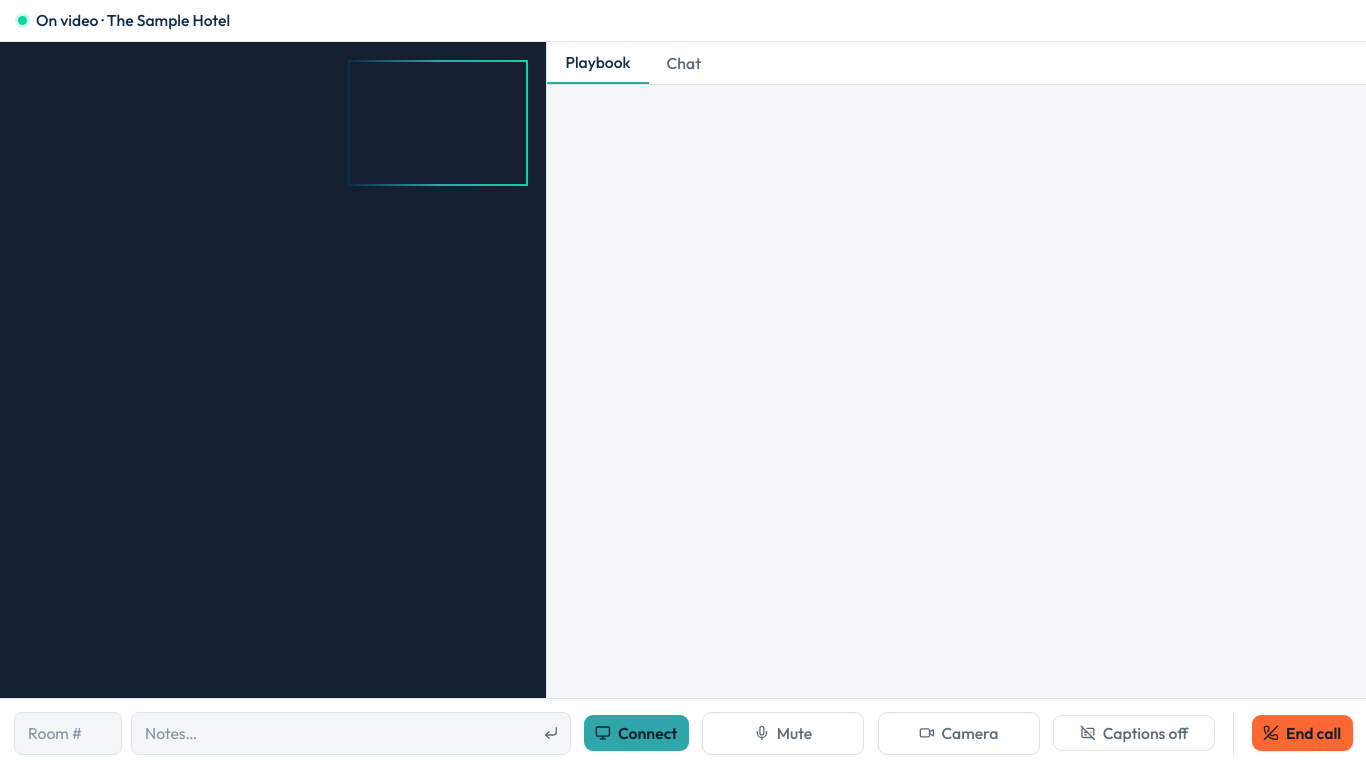
VideoCall — provider-neutral behavior (livekit harness) › clears a previous Connect failure once a later attempt launches
What coordinates should you click on to do the following:
click the button "Connect"
I would click on:
 (636, 733)
Its box is [584,715,689,751].
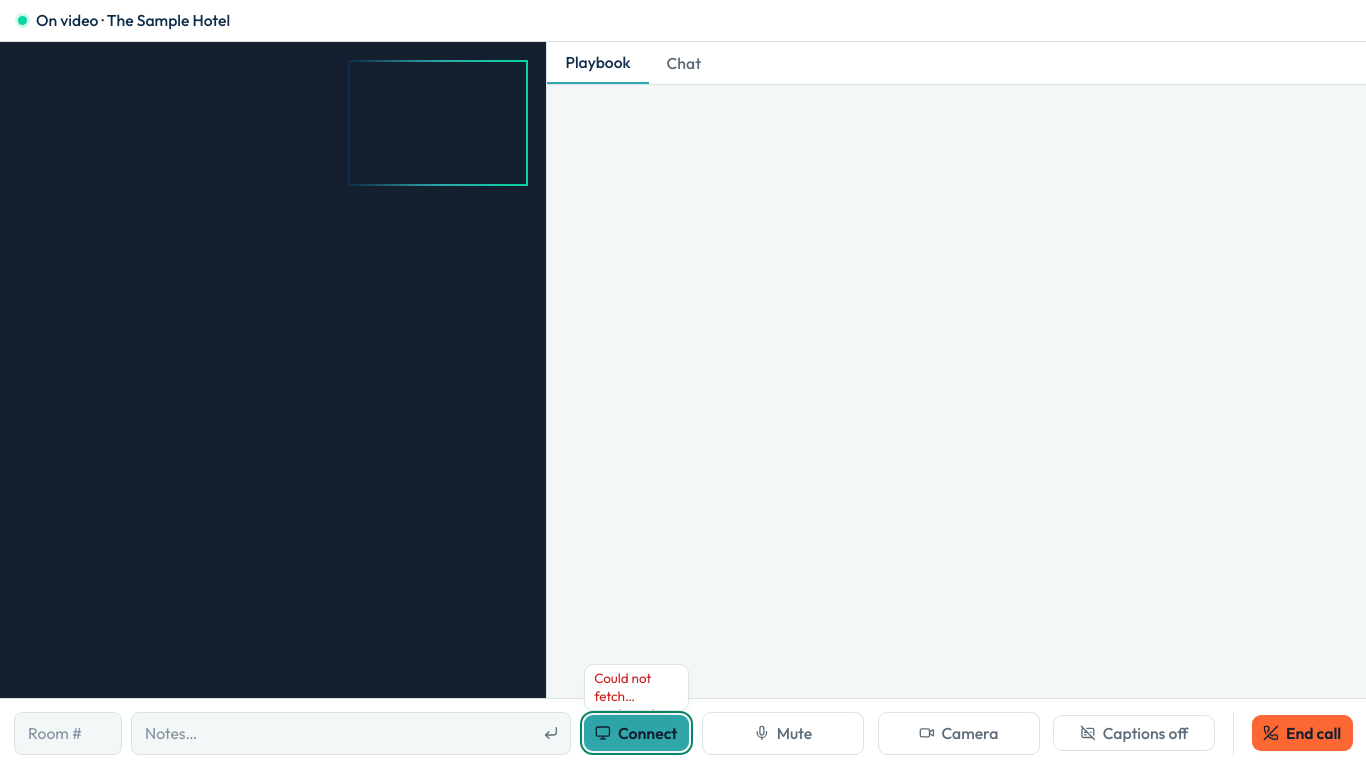
Result: the message reads "Could not fetch credentials. Try again." at [594,669,664,741]
What coordinates should you click on to do the following:
click the button "Connect"
I would click on:
 (636, 733)
Its box is [584,715,689,751].
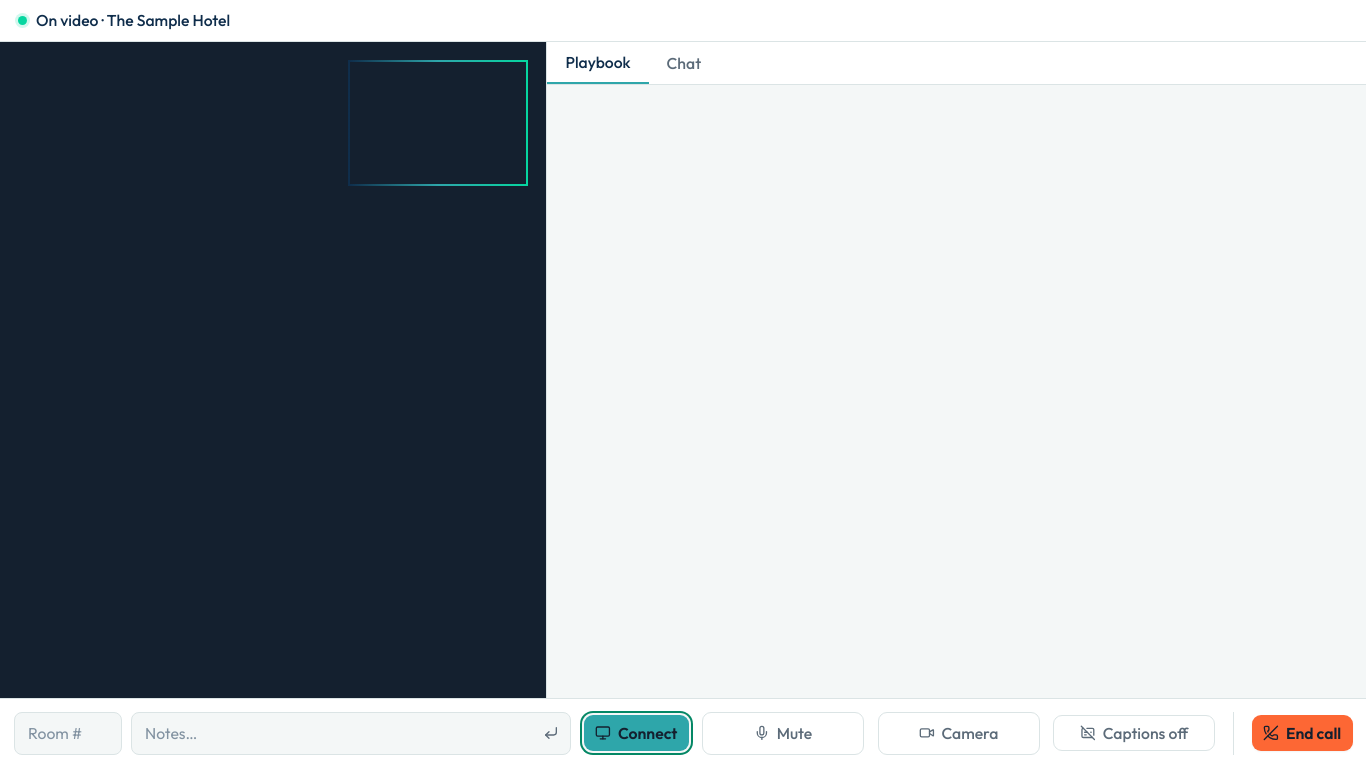
Result: the message "Could not fetch credentials. Try again." is gone
